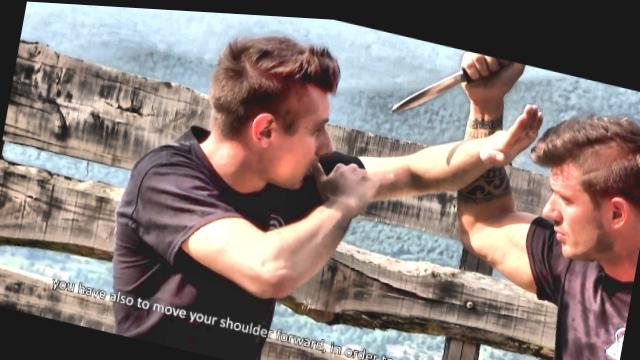knife: (385, 29, 516, 135)
